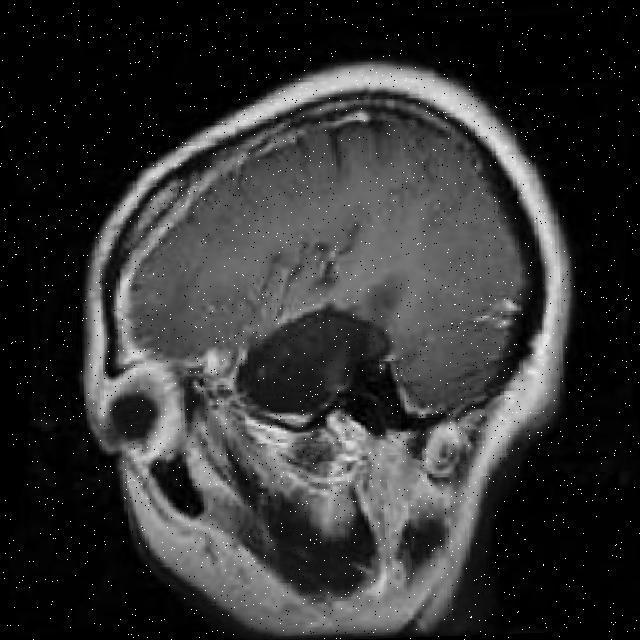MCI: (234, 218, 330, 274)
